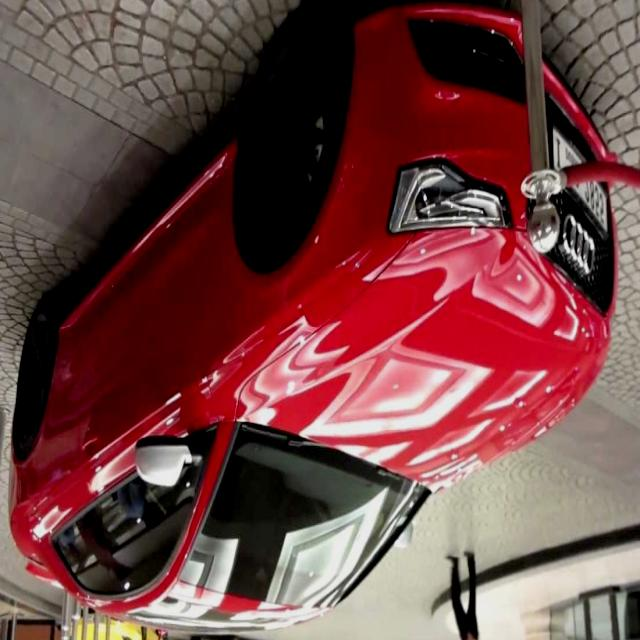red: (10, 11, 620, 626)
